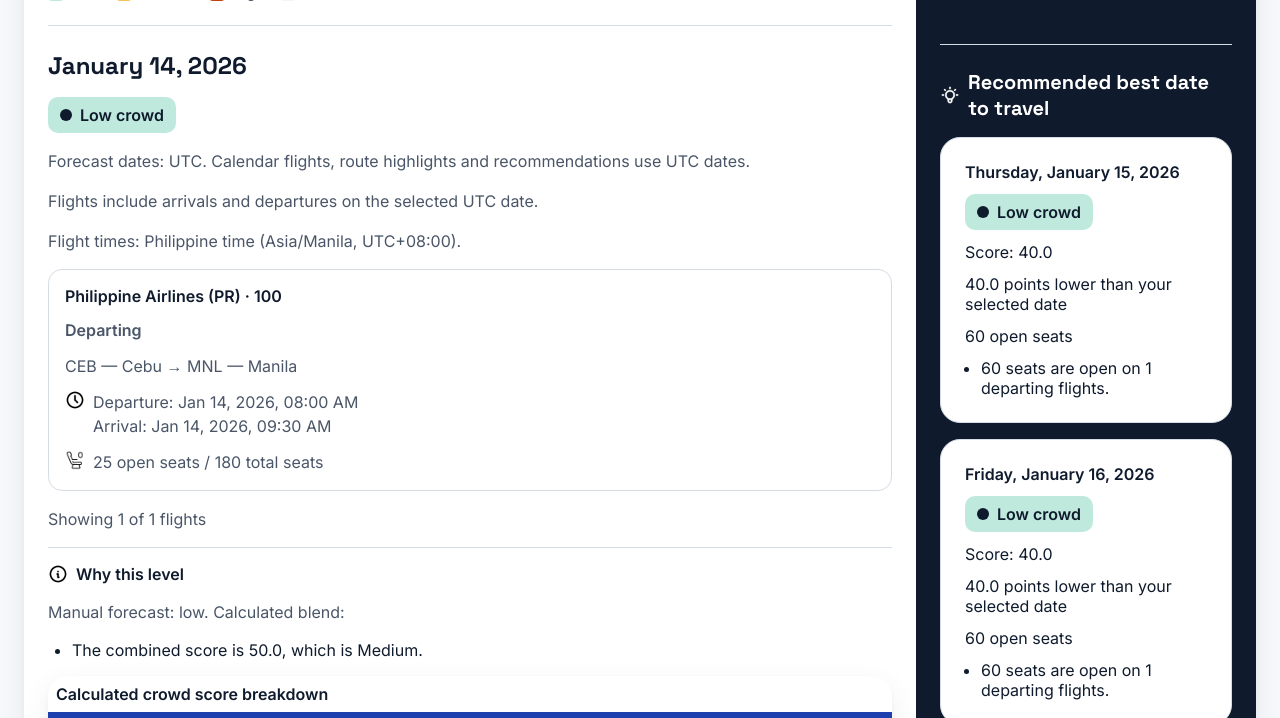
Test: renders up to three recommendations and selects a card date with fresh requests
The width and height of the screenshot is (1280, 718).
(page scrolled)
Check: the picture next to "Recommended best date to travel" is shown, box 940,85 -> 960,105
Click the button with class "calendar-recommendation-card" that starts with "Thursday": (1086, 280) 940,137 -> 1232,423
(page scrolled)
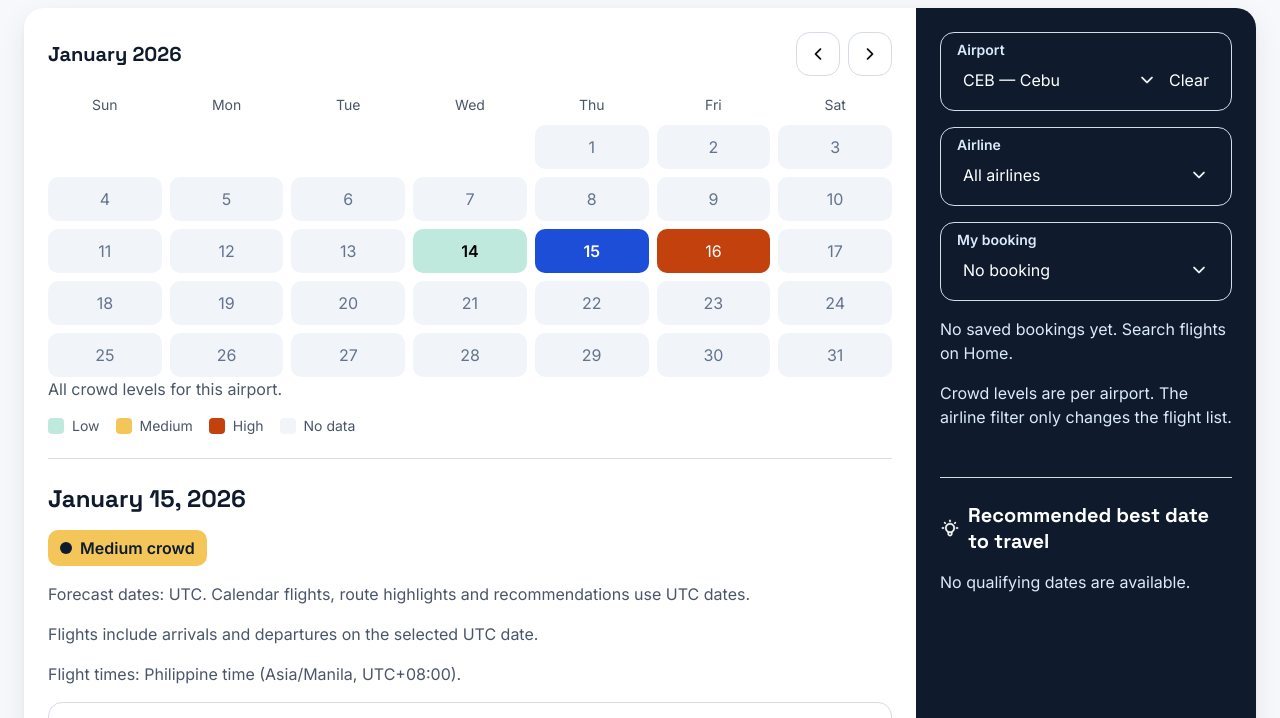
Check: no buttons with class "calendar-recommendation-card" are shown
